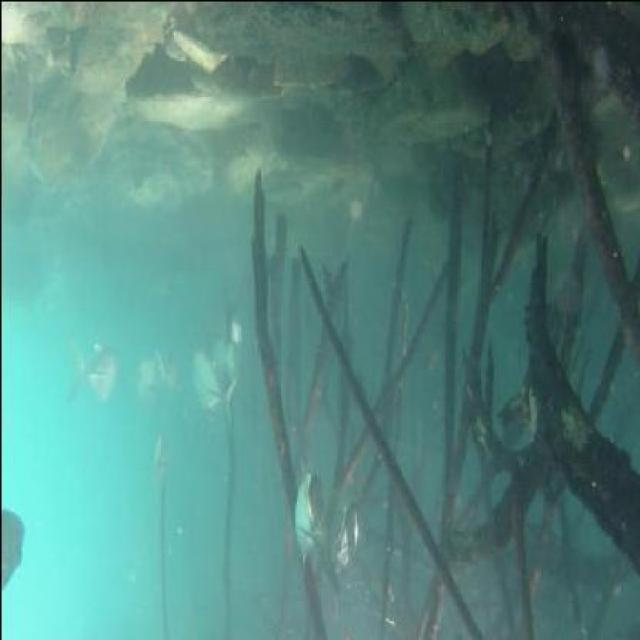Caranx_sexfasciatus_juvenile: (285, 458, 343, 600), (188, 337, 241, 432), (66, 338, 122, 409), (330, 498, 364, 574), (129, 344, 156, 410), (152, 428, 172, 482)
